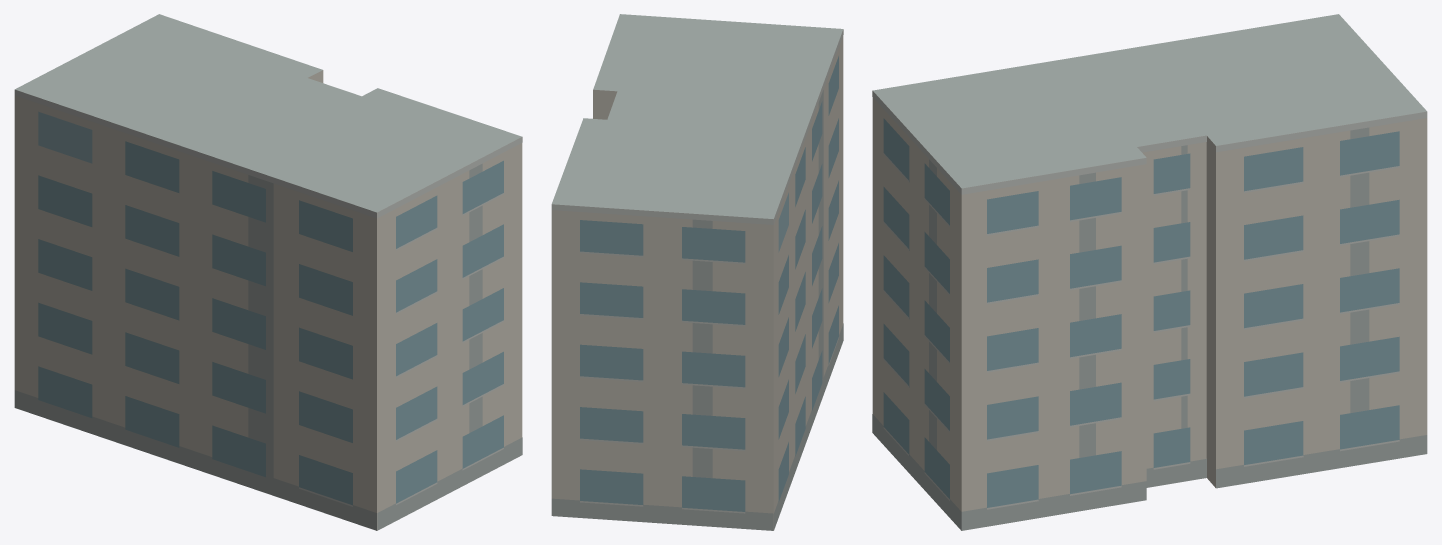
File: survey-upis-32888769.glb
The picture shows the model from 3 angles, left to right: view 1: azimuth 30°, elevation 25°; view 2: azimuth 150°, elevation 25°; view 3: azimuth 270°, elevation 25°; orthographic projection. The views are drawn at different scales.
Visible parts, largest first — view 1: survey-upis-32888769.tmp; view 2: survey-upis-32888769.tmp; view 3: survey-upis-32888769.tmp.
Boxes of the visible parts, x1=… form: survey-upis-32888769.tmp: x1=14, y1=14, x2=522, y2=530; survey-upis-32888769.tmp: x1=551, y1=14, x2=843, y2=530; survey-upis-32888769.tmp: x1=872, y1=14, x2=1427, y2=530.
Bounding box in the file's own units: 14.22 × 13 × 19.1.
